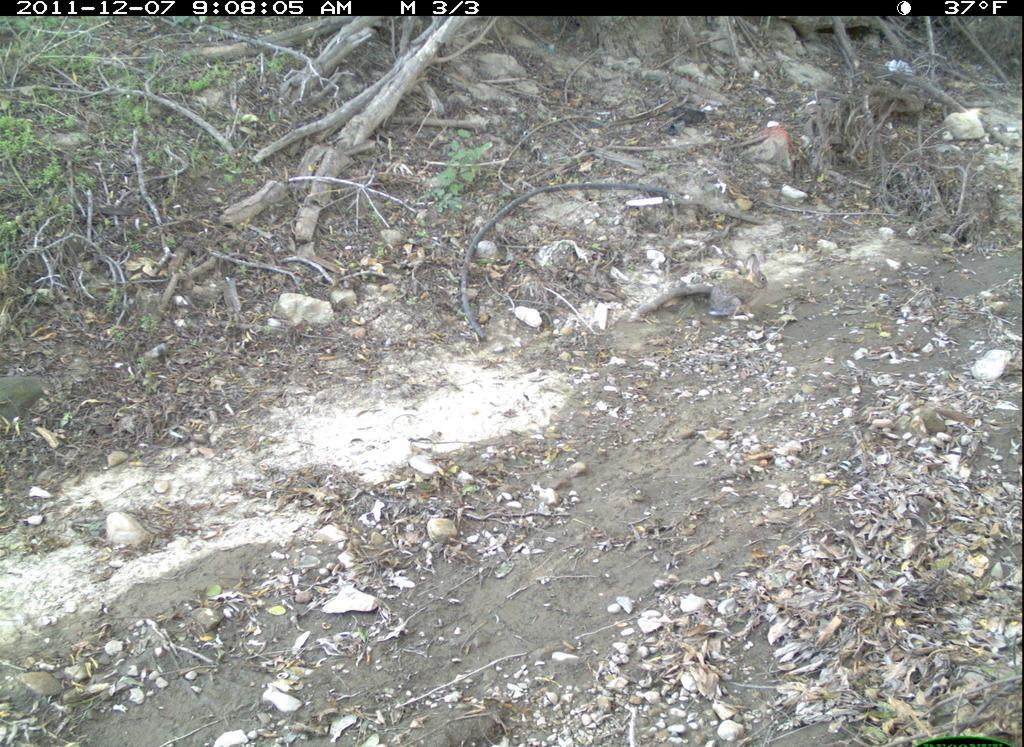rabbit: (697, 239, 781, 338)
